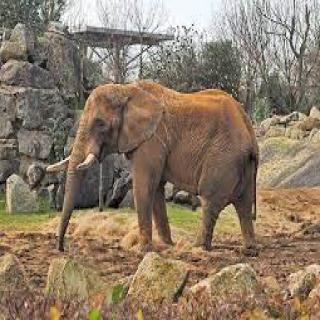Elephant: (44, 78, 262, 254)
